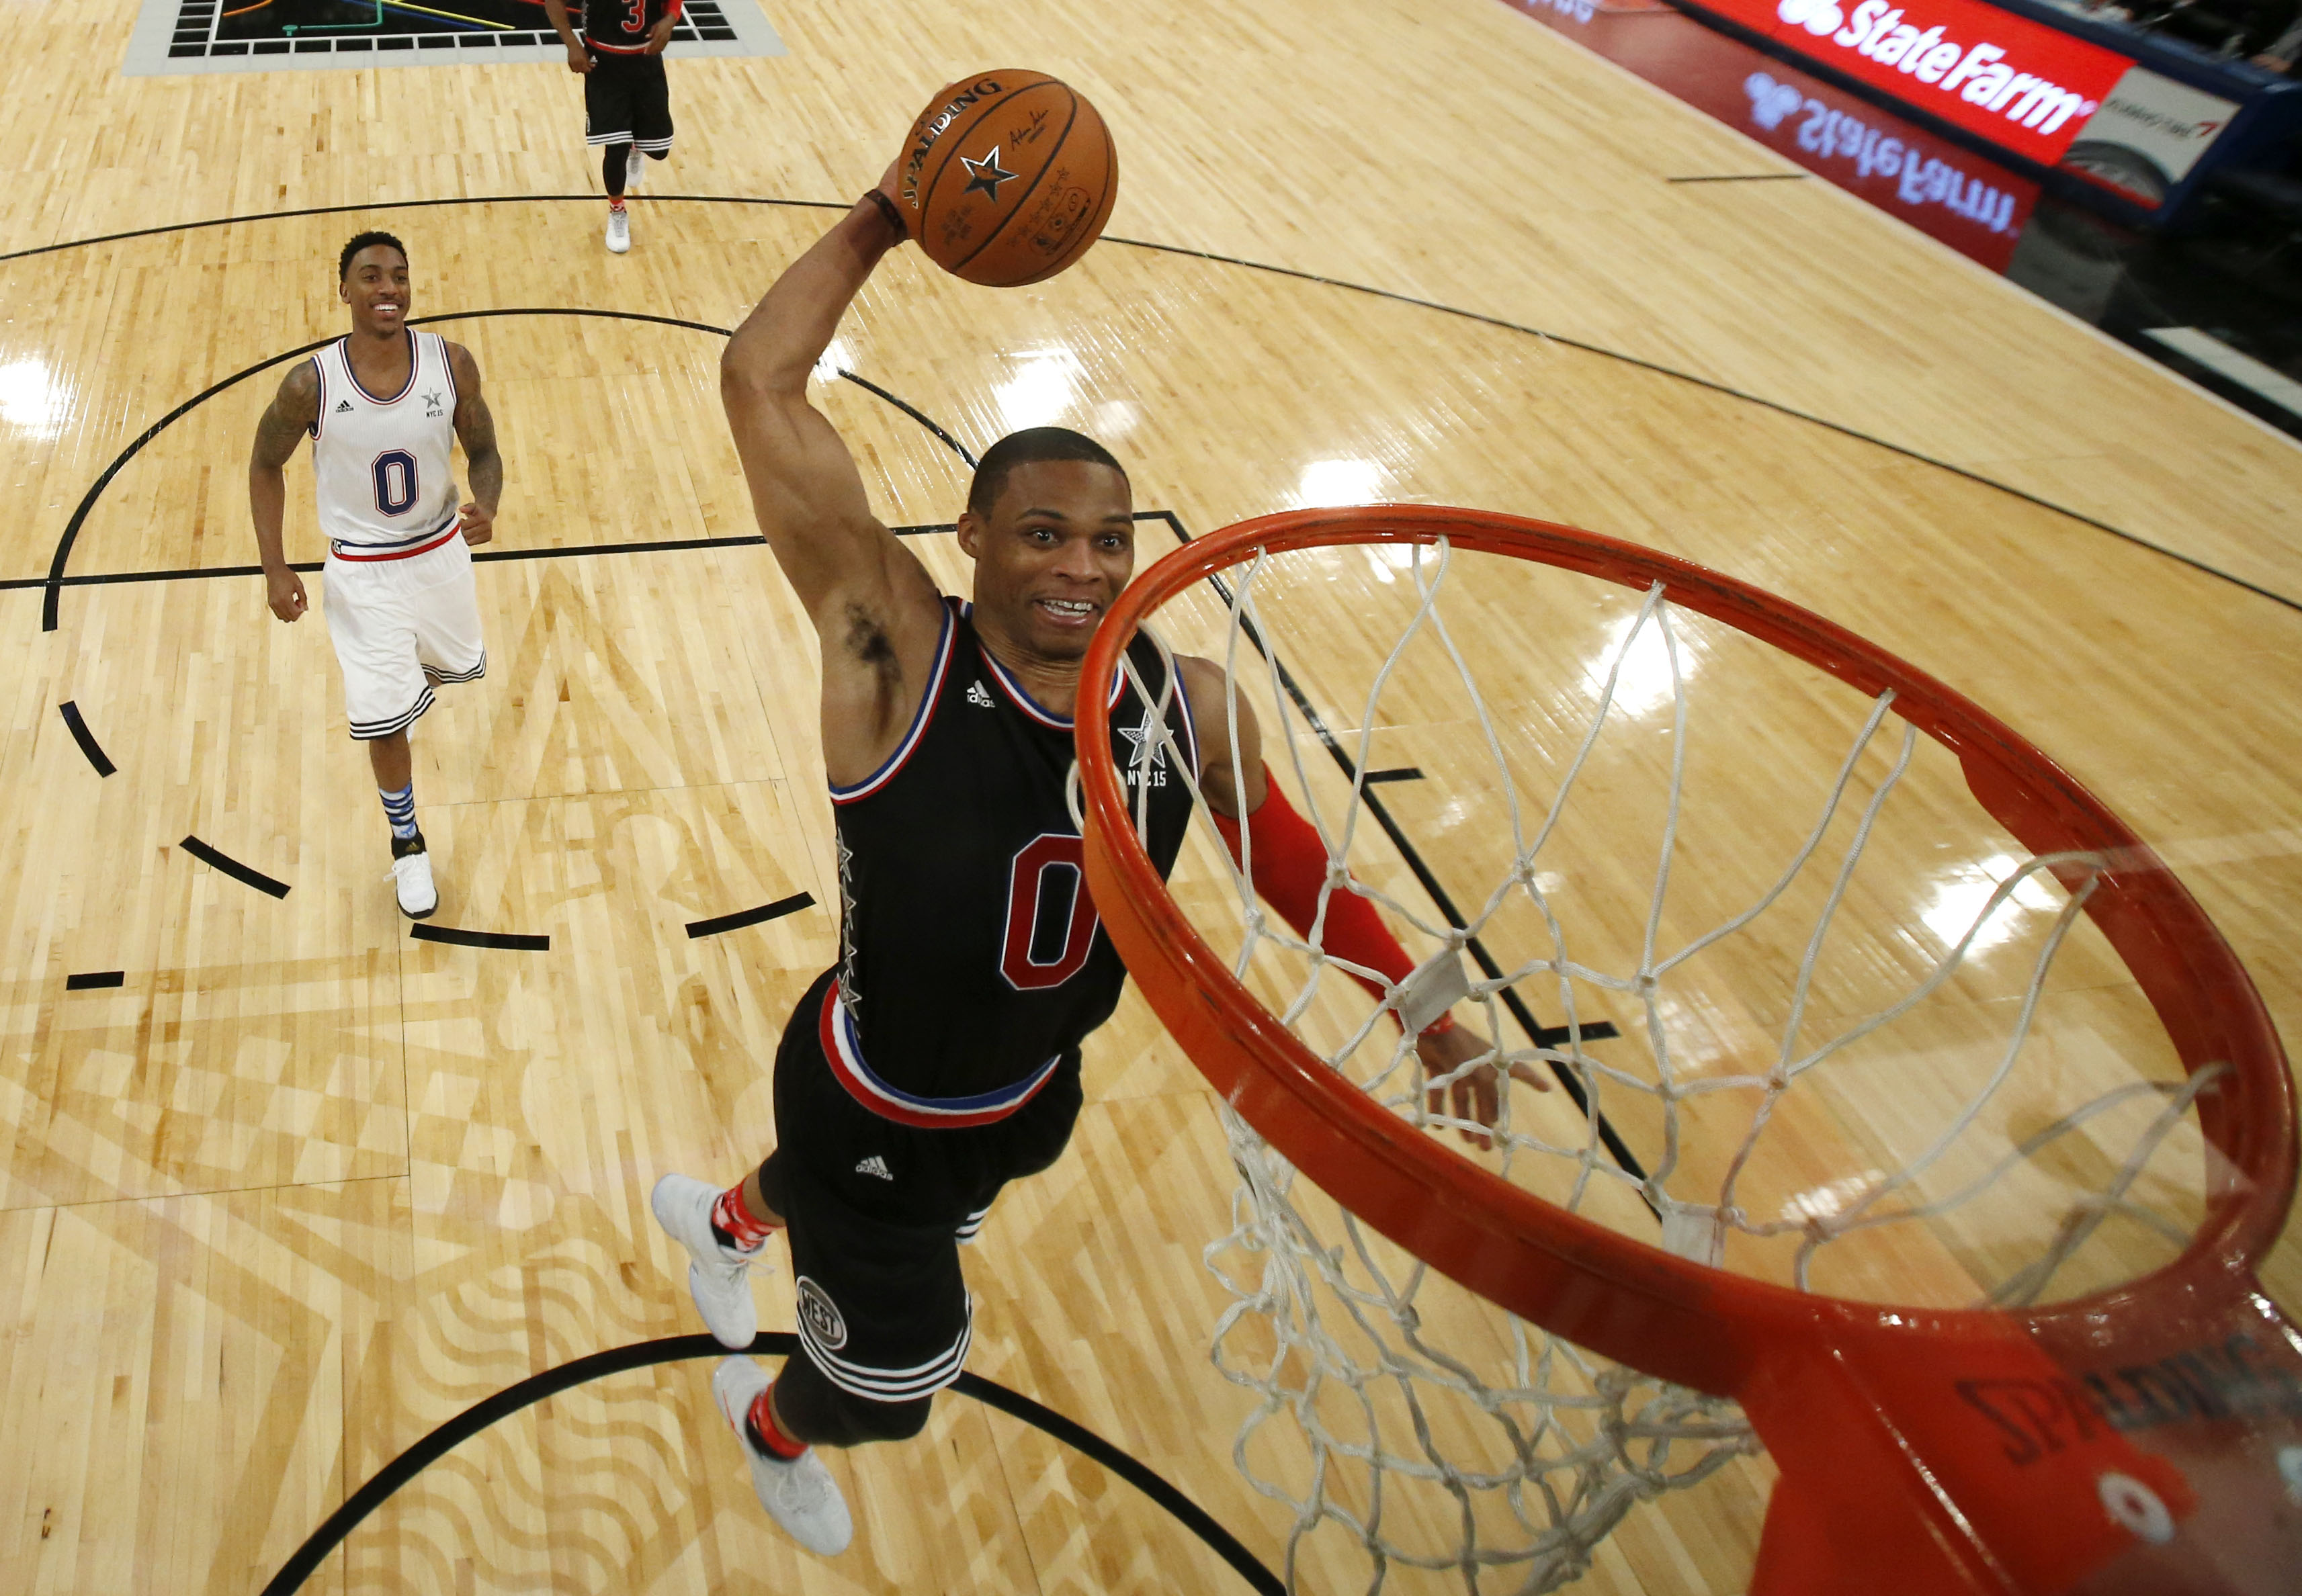basketball: (894, 63, 1116, 287)
